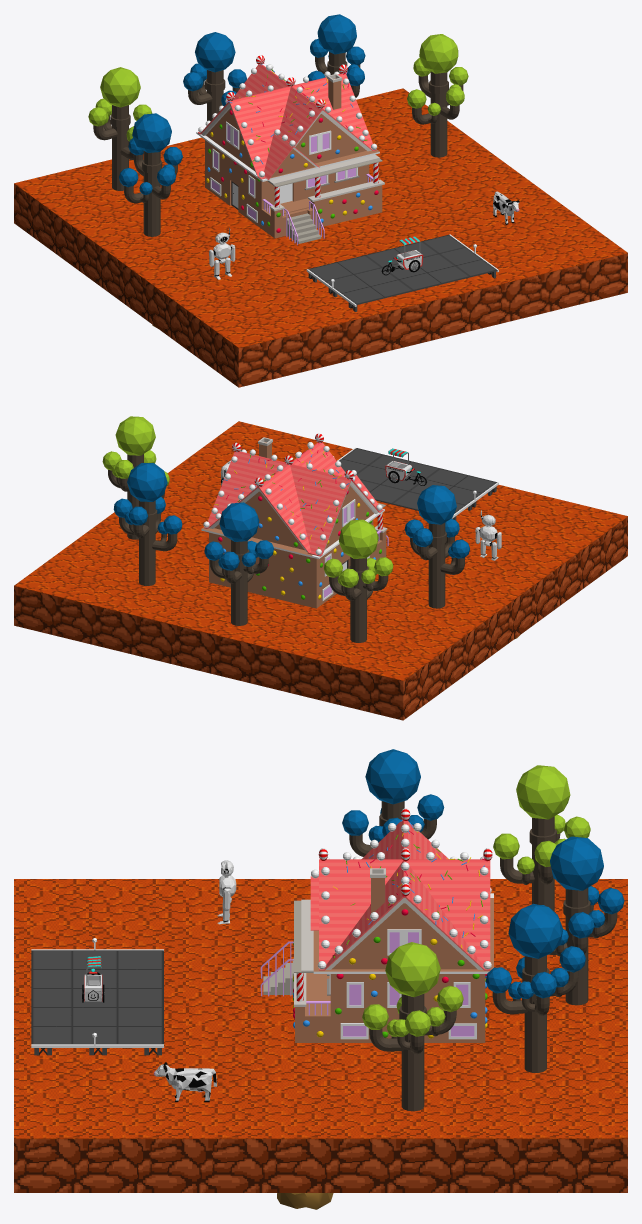
The picture shows the model from 3 angles, top to bottom: view 1: azimuth 30°, elevation 25°; view 2: azimuth 150°, elevation 25°; view 3: azimuth 270°, elevation 25°; orthographic projection. The views are drawn at different scales.
Parts seen in each view (by area): view 1: Cube.001, Cube.1203, OBJRANDOM_PLATZEEBOT, VEHICLES_SNOWBAL_BIKE, ANIMAL_VACA; view 2: Cube.001, Cube.1203, OBJRANDOM_PLATZEEBOT, VEHICLES_SNOWBAL_BIKE; view 3: Cube.001, Cube.1203, ANIMAL_VACA, VEHICLES_SNOWBAL_BIKE, OBJRANDOM_PLATZEEBOT, UNDERGROUND_T_REX_BONES.
Boxes of the visible parts, bbox=[...] form: Cube.001: bbox=[14, 14, 627, 387]; Cube.1203: bbox=[196, 55, 384, 245]; OBJRANDOM_PLATZEEBOT: bbox=[209, 227, 235, 279]; VEHICLES_SNOWBAL_BIKE: bbox=[381, 236, 423, 275]; ANIMAL_VACA: bbox=[493, 191, 519, 224]; Cube.001: bbox=[14, 416, 627, 720]; Cube.1203: bbox=[201, 433, 388, 608]; OBJRANDOM_PLATZEEBOT: bbox=[475, 510, 501, 560]; VEHICLES_SNOWBAL_BIKE: bbox=[385, 448, 426, 485]; Cube.001: bbox=[14, 749, 627, 1192]; Cube.1203: bbox=[260, 808, 493, 1042]; ANIMAL_VACA: bbox=[153, 1062, 216, 1102]; VEHICLES_SNOWBAL_BIKE: bbox=[81, 956, 104, 1002]; OBJRANDOM_PLATZEEBOT: bbox=[217, 860, 236, 924]; UNDERGROUND_T_REX_BONES: bbox=[277, 1193, 333, 1209].
Bounding box in the file's own units: 4000 × 1777 × 4000.
Materials: 39 (5 with a texture image).
